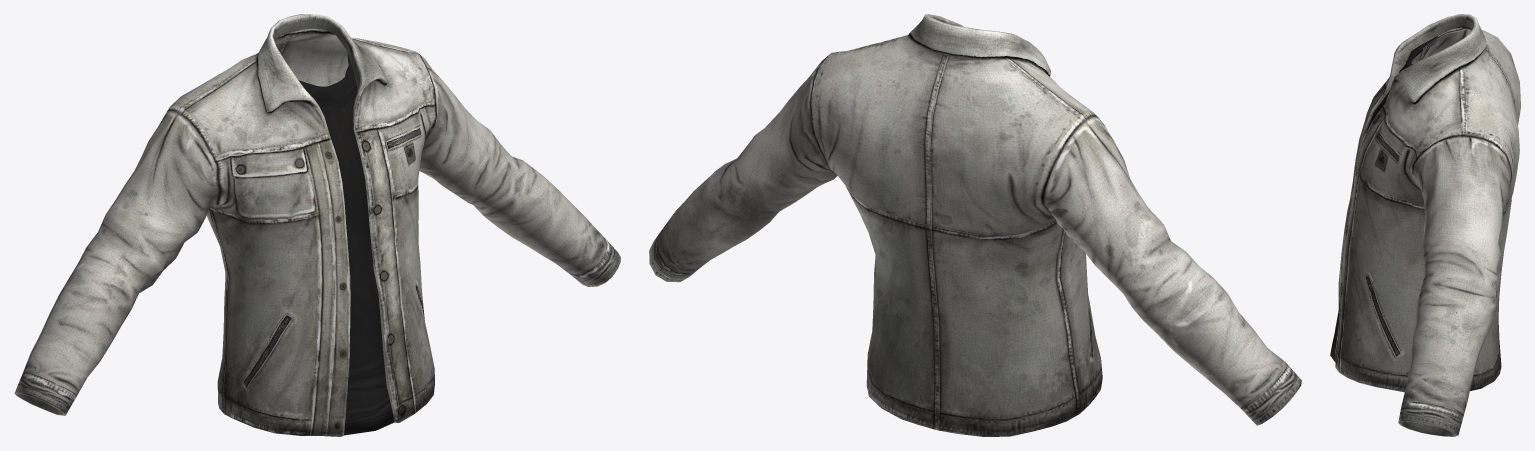
Rendered from SurvivorMale_Chest_Jacket_Farmer_LOD0.glb.
3 views of the same model, side by side, from view 1: azimuth 30°, elevation 25°; view 2: azimuth 150°, elevation 25°; view 3: azimuth 270°, elevation 25° (orthographic). The views are drawn at different scales.
Visible parts, largest first — view 1: Hoodie; view 2: Hoodie; view 3: Hoodie.
Boxes of the visible parts, x1=… form: Hoodie: x1=14, y1=14, x2=620, y2=436; Hoodie: x1=649, y1=14, x2=1301, y2=436; Hoodie: x1=1330, y1=14, x2=1520, y2=436.
Size of the model in its own units: 1.15 by 0.6777 by 0.3467.
1 material, 1 textured.
